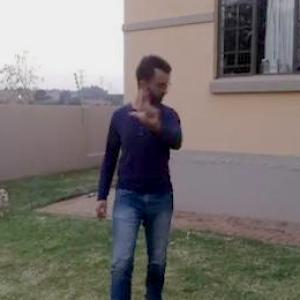land_hand: (128, 88, 162, 127)
